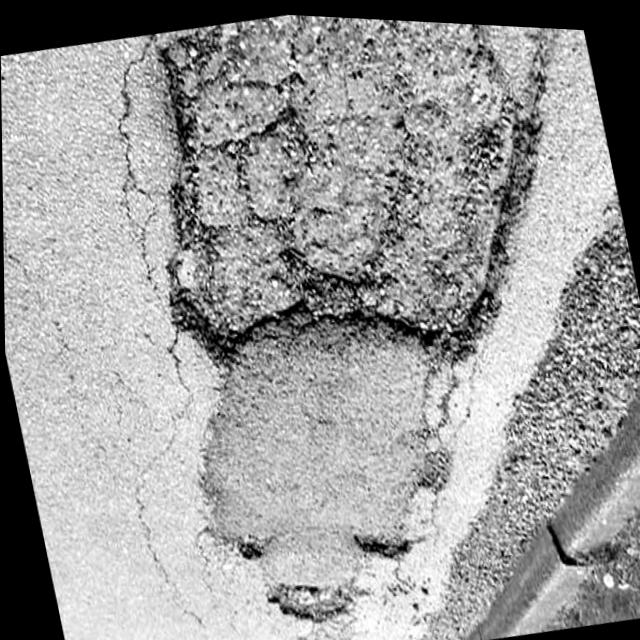pathole: (78, 12, 629, 640)
